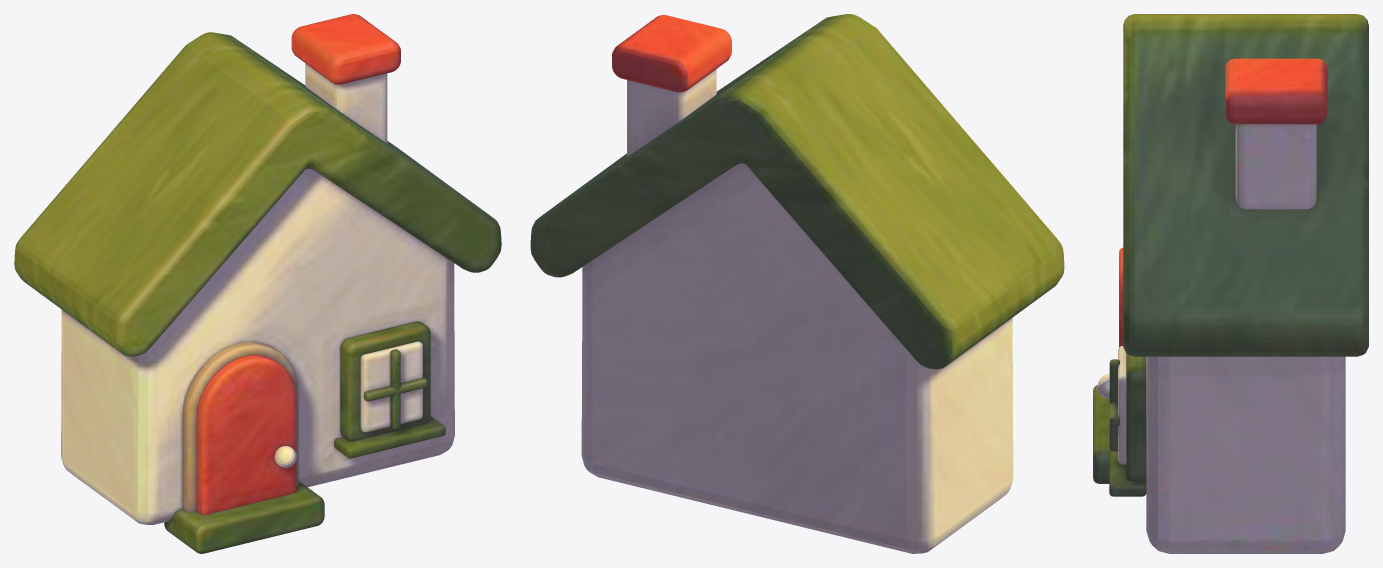
Rendered from home.glb.
3 renders of one model, left to right at view 1: azimuth 30°, elevation 25°; view 2: azimuth 150°, elevation 25°; view 3: azimuth 270°, elevation 25°, orthographic. The views are drawn at different scales.
Visible parts, largest first — view 1: Arched entry; view 2: Arched entry; view 3: Arched entry.
Part boxes in pixels (x1=…): Arched entry: x1=14, y1=14, x2=501, y2=553; Arched entry: x1=530, y1=14, x2=1064, y2=553; Arched entry: x1=1093, y1=14, x2=1368, y2=553.
Size of the model in its own units: 2.22 by 2.23 by 1.19.
1 material, 1 textured.
